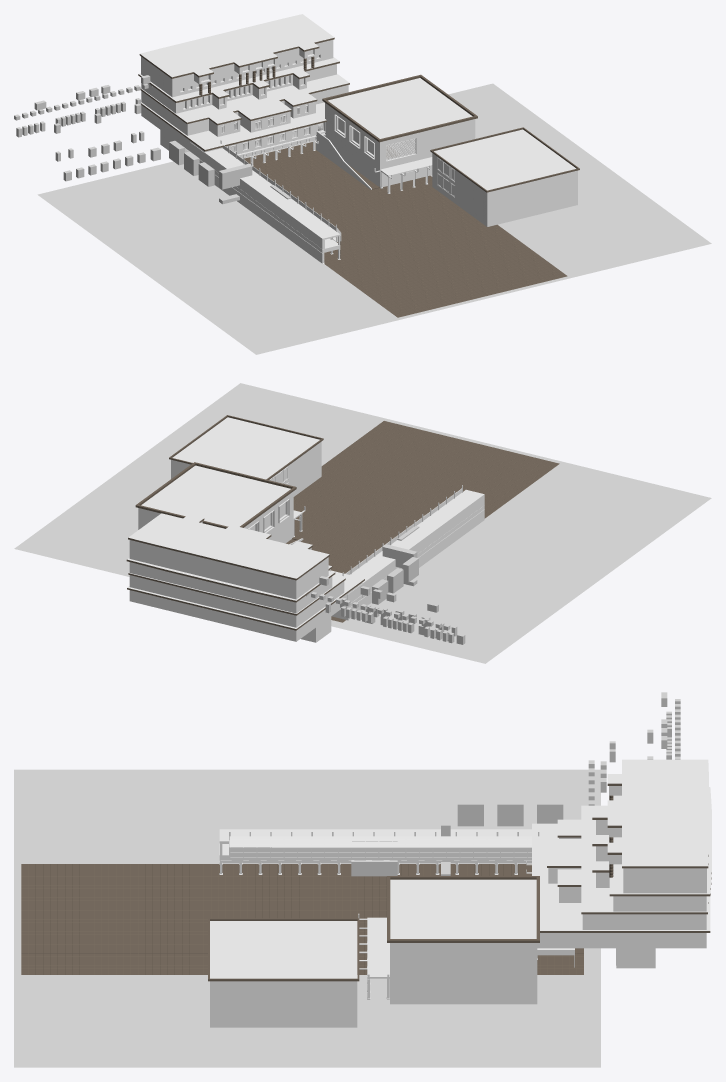
Rendered from ancient_shrine.glb.
3 views of the same model, one above another, from view 1: azimuth 30°, elevation 25°; view 2: azimuth 150°, elevation 25°; view 3: azimuth 270°, elevation 25° (orthographic). The views are drawn at different scales.
Parts seen in each view (by area): view 1: Plane.2552, Plane.2382, Cube.081, Cube.069, Cube.074, Cube.057, booleon, Cube.073, Cube.072, Cube.036, Cube.223, Cube.054 (+5 smaller); view 2: Plane.2552, Plane.2382, Cube.074, Cube.081, Cube.069, booleon, Cube.072, Cube.057, Cube.073, Cube.036, Cube.223, Cube.054 (+4 smaller); view 3: Plane.2552, Plane.2382, Cube.069, Cube.081, Cube.074, Cube.057, Cube.037, Cube.072, booleon, Cube.073, Cube.036, Cube.223 (+5 smaller).
Boxes of the visible parts, <box> form: Plane.2552: <box>37,83,711,354</box>; Plane.2382: <box>244,142,567,317</box>; Cube.081: <box>432,129,577,226</box>; Cube.069: <box>325,78,475,186</box>; Cube.074: <box>139,14,334,97</box>; Cube.057: <box>140,74,349,136</box>; booleon: <box>14,75,291,204</box>; Cube.073: <box>138,57,339,113</box>; Cube.072: <box>141,101,326,154</box>; Cube.036: <box>204,148,340,240</box>; Cube.223: <box>322,74,477,142</box>; Cube.054: <box>190,142,322,249</box>; Plane.2552: <box>14,383,711,663</box>; Plane.2382: <box>286,421,559,622</box>; Cube.074: <box>128,513,329,599</box>; Cube.081: <box>171,417,321,496</box>; Cube.069: <box>138,465,293,543</box>; booleon: <box>306,526,465,644</box>; Cube.072: <box>127,570,364,641</box>; Cube.057: <box>128,565,345,627</box>; Cube.073: <box>126,558,335,613</box>; Cube.036: <box>350,489,484,584</box>; Cube.223: <box>135,462,296,528</box>; Cube.054: <box>347,496,484,602</box>; Plane.2552: <box>14,769,600,1067</box>; Plane.2382: <box>21,864,583,974</box>; Cube.069: <box>390,879,537,1004</box>; Cube.081: <box>210,921,357,1027</box>; Cube.074: <box>607,759,708,893</box>; Cube.057: <box>547,805,708,929</box>; Cube.037: <box>230,836,531,857</box>; Cube.072: <box>532,823,710,948</box>; booleon: <box>351,692,680,876</box>; Cube.073: <box>592,787,711,911</box>; Cube.036: <box>219,829,531,843</box>; Cube.223: <box>387,876,539,942</box>.
Bounding box in the file's own units: 174 × 28.22 × 172.
